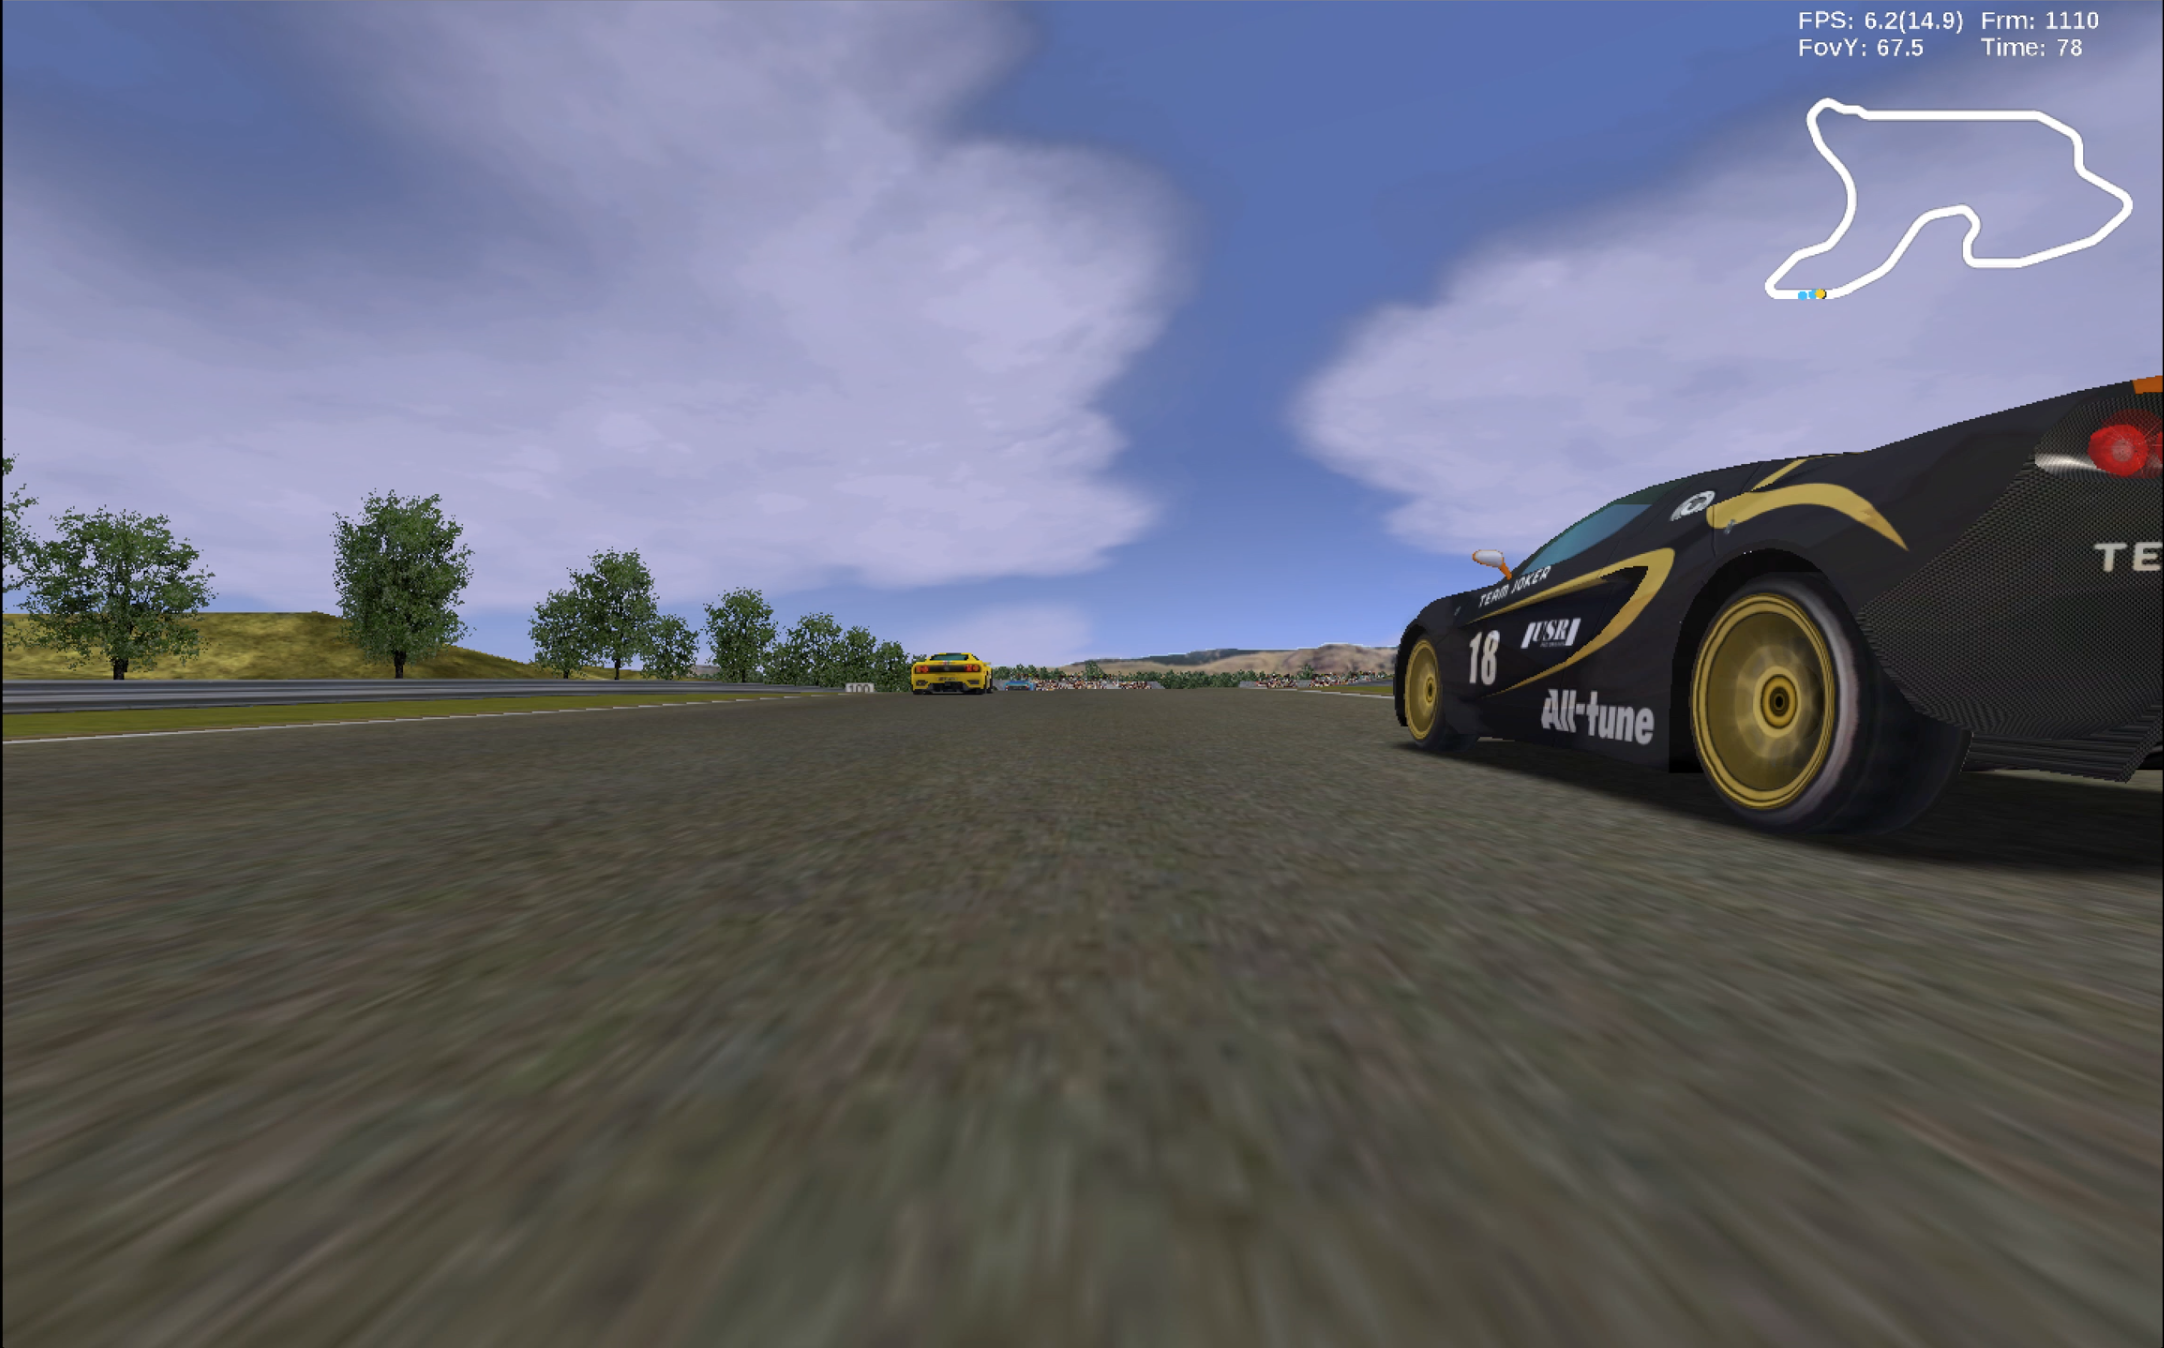Cavallo360: (913, 652, 995, 696)
Lynx220: (1004, 682, 1039, 696)
Spirit300: (1392, 374, 2164, 842)
